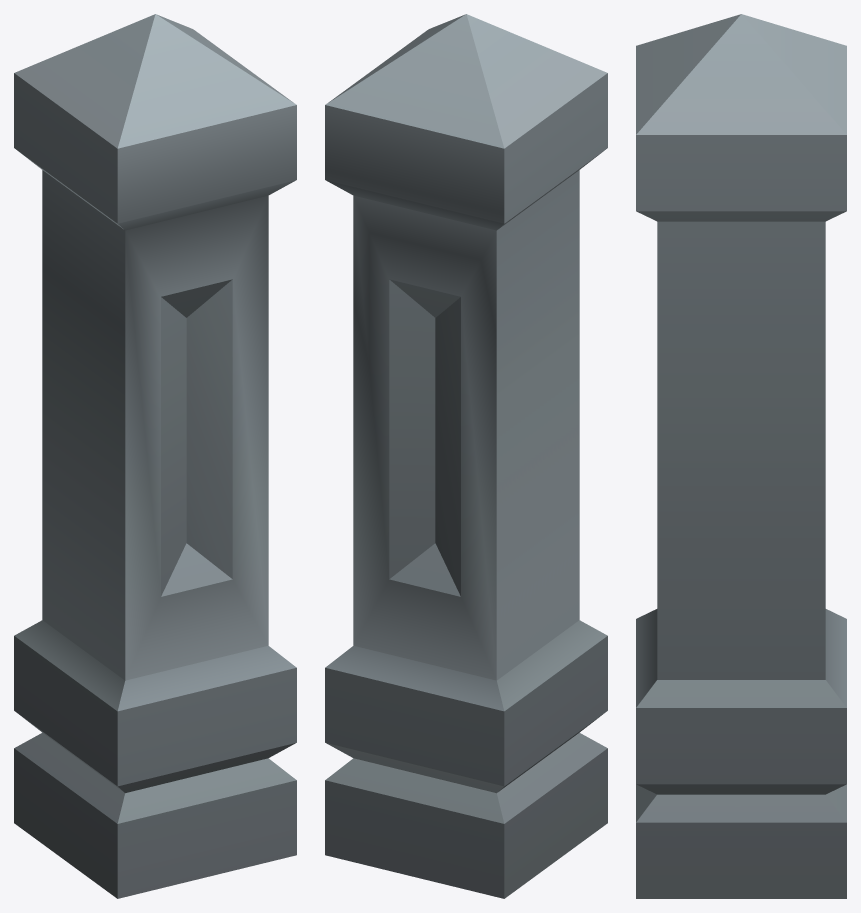
Rendered from d_kaykit_pilier_grille.glb.
The picture shows the model from 3 angles, left to right: view 1: azimuth 30°, elevation 25°; view 2: azimuth 150°, elevation 25°; view 3: azimuth 270°, elevation 25°; orthographic projection.
Visible parts, largest first — view 1: d_kaykit_pilier_grille; view 2: d_kaykit_pilier_grille; view 3: d_kaykit_pilier_grille.
Boxes of the visible parts, x1,y1,x2,y2 form: d_kaykit_pilier_grille: [14, 14, 296, 898]; d_kaykit_pilier_grille: [325, 14, 607, 898]; d_kaykit_pilier_grille: [636, 14, 846, 898].
Size of the model in its own units: 0.5001 by 2.2 by 0.5001.
1 material, 1 textured.
